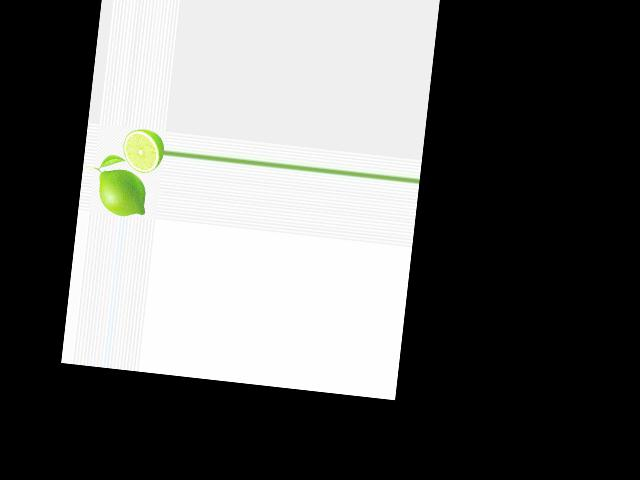lemon: (94, 165, 151, 216)
